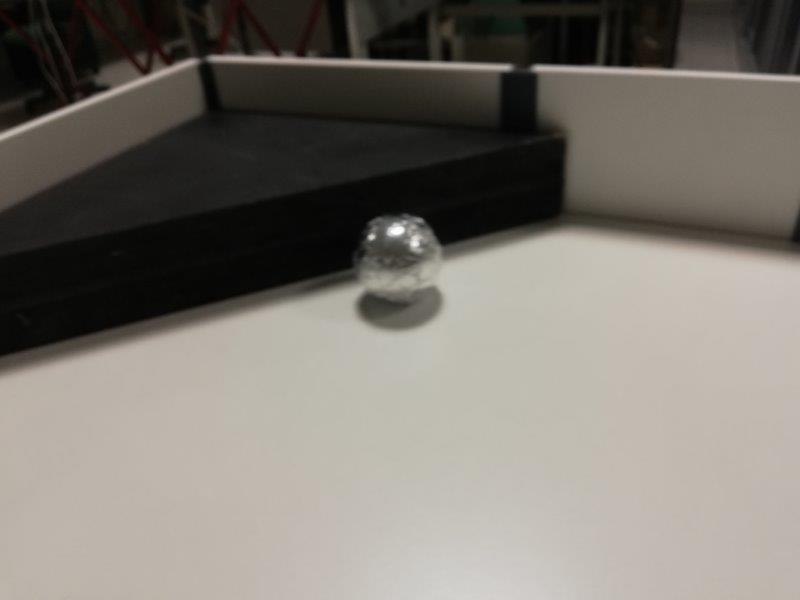bianca: (353, 213, 441, 305)
